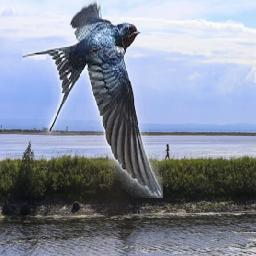Swallow: (23, 0, 164, 198)
